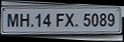character: (6, 12, 19, 27), (19, 12, 29, 28), (55, 12, 65, 28), (64, 11, 74, 27), (42, 12, 51, 27), (91, 12, 99, 27), (99, 12, 107, 27), (83, 12, 91, 26), (107, 12, 115, 26), (34, 12, 41, 27)
